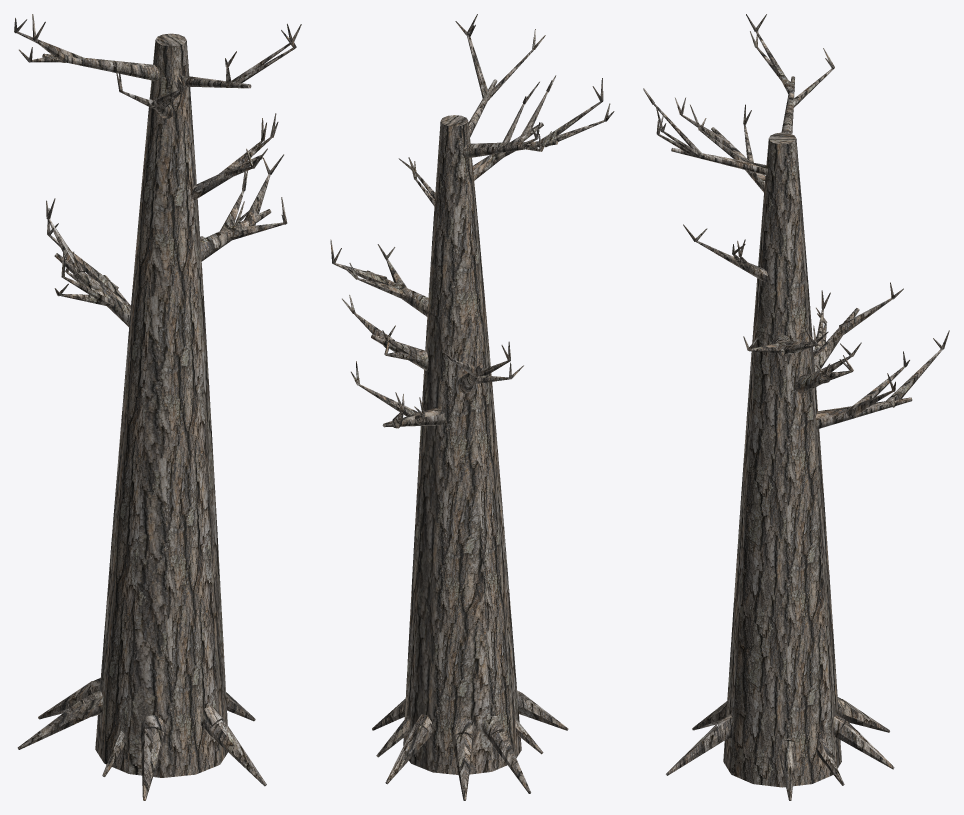
File: giant-dead-oak-v01.glb
The picture shows the model from 3 angles, left to right: view 1: azimuth 30°, elevation 25°; view 2: azimuth 150°, elevation 25°; view 3: azimuth 270°, elevation 25°; orthographic projection. The views are drawn at different scales.
Parts seen in each view (by area): view 1: dead-tree-oak; view 2: dead-tree-oak; view 3: dead-tree-oak.
Part boxes in pixels (box(x1,y1,x2,y2)): dead-tree-oak: box(14, 14, 301, 800); dead-tree-oak: box(330, 14, 614, 800); dead-tree-oak: box(643, 14, 949, 800).
Size of the model in its own units: 3.94 by 10 by 4.03.
1 material, 1 textured.
